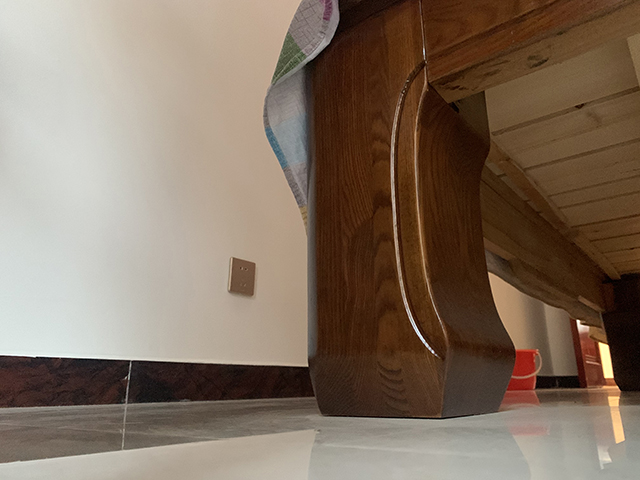bed: (263, 1, 640, 419)
